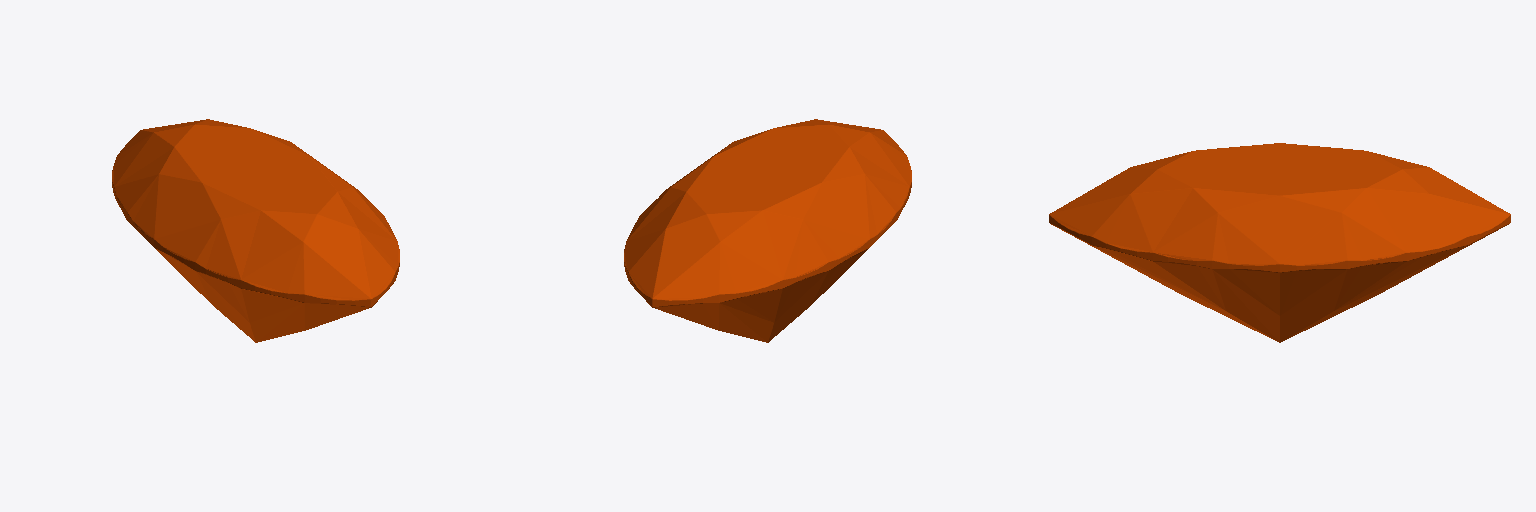
The model's file is Citrine_High_Poly.obj.
3 renders of one model, left to right at view 1: azimuth 30°, elevation 25°; view 2: azimuth 150°, elevation 25°; view 3: azimuth 270°, elevation 25°, orthographic.
Visible parts, largest first — view 1: Citrine_-_Marquise_Cut_dmesh.001; view 2: Citrine_-_Marquise_Cut_dmesh.001; view 3: Citrine_-_Marquise_Cut_dmesh.001.
Boxes of the visible parts, x1,y1,x2,y2 form: Citrine_-_Marquise_Cut_dmesh.001: [112, 119, 399, 342]; Citrine_-_Marquise_Cut_dmesh.001: [624, 119, 911, 342]; Citrine_-_Marquise_Cut_dmesh.001: [1049, 143, 1510, 342].
Size of the model in its own units: 1.53 by 1.25 by 3.01.